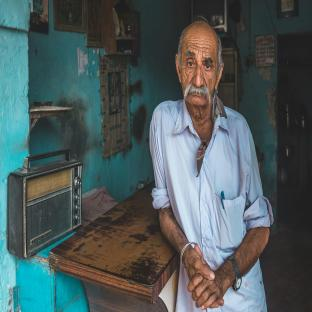Human: (149, 20, 273, 312)
